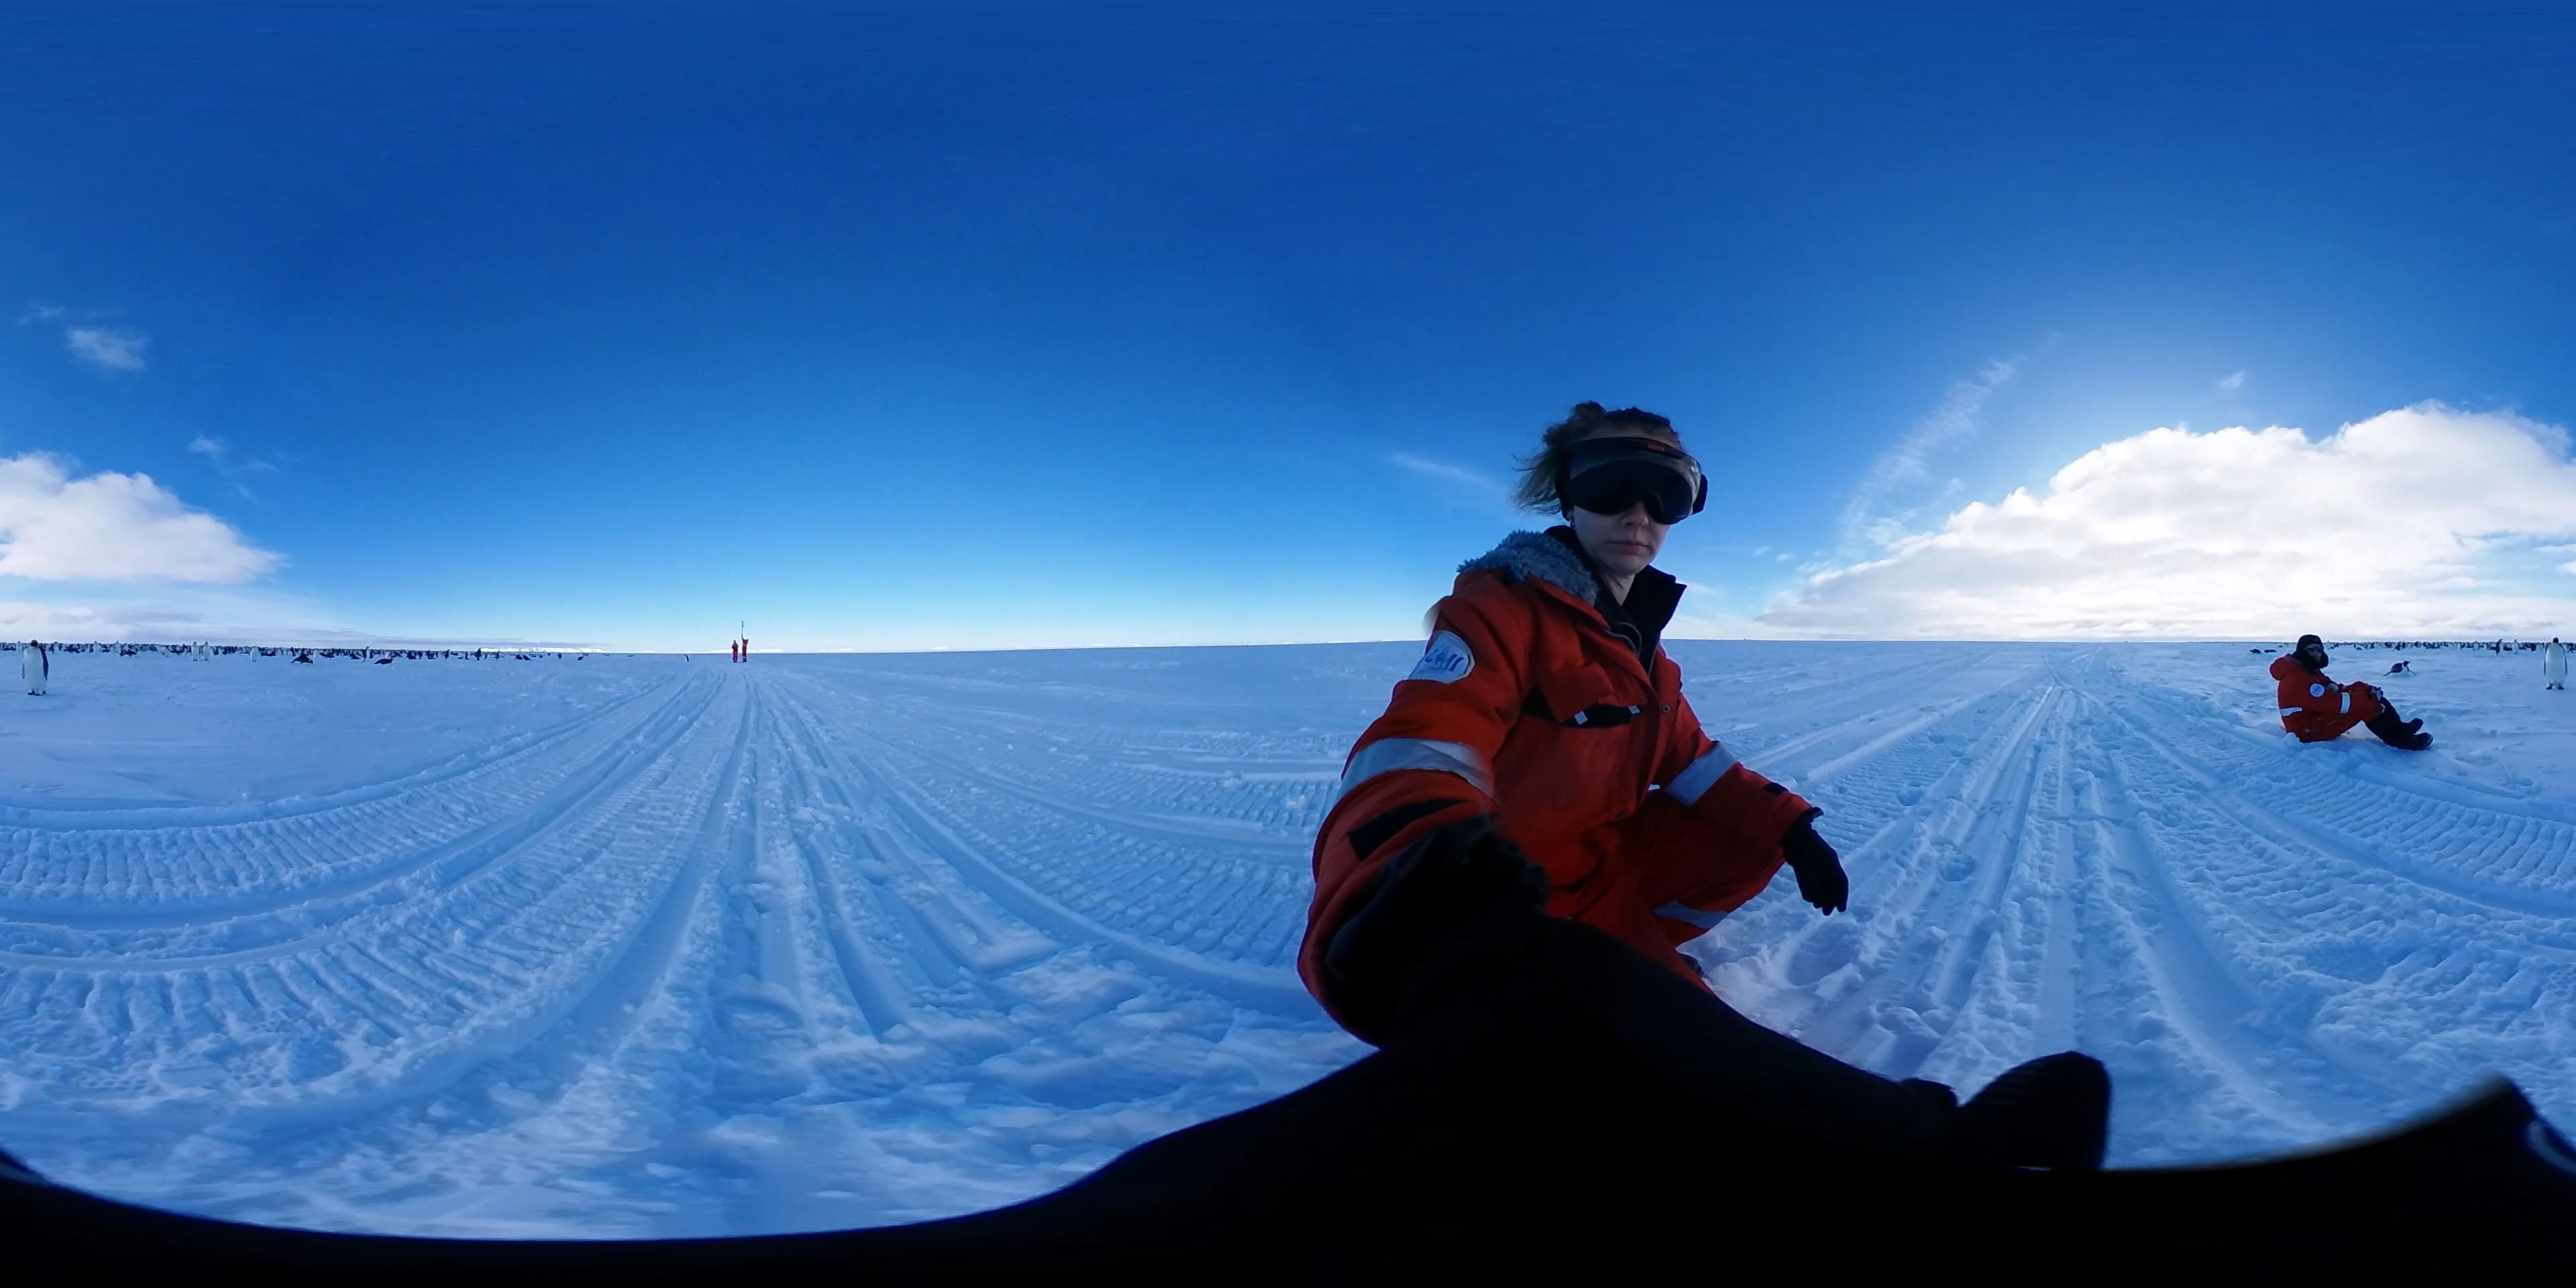adult_standing_penguin: (20, 637, 53, 698), (2541, 636, 2573, 692)
adult_toboggan_penguin: (2384, 657, 2422, 680), (292, 652, 317, 665), (373, 655, 391, 665)
researcher: (1311, 365, 1888, 948), (2270, 628, 2436, 757), (739, 636, 751, 665), (729, 637, 739, 660)
